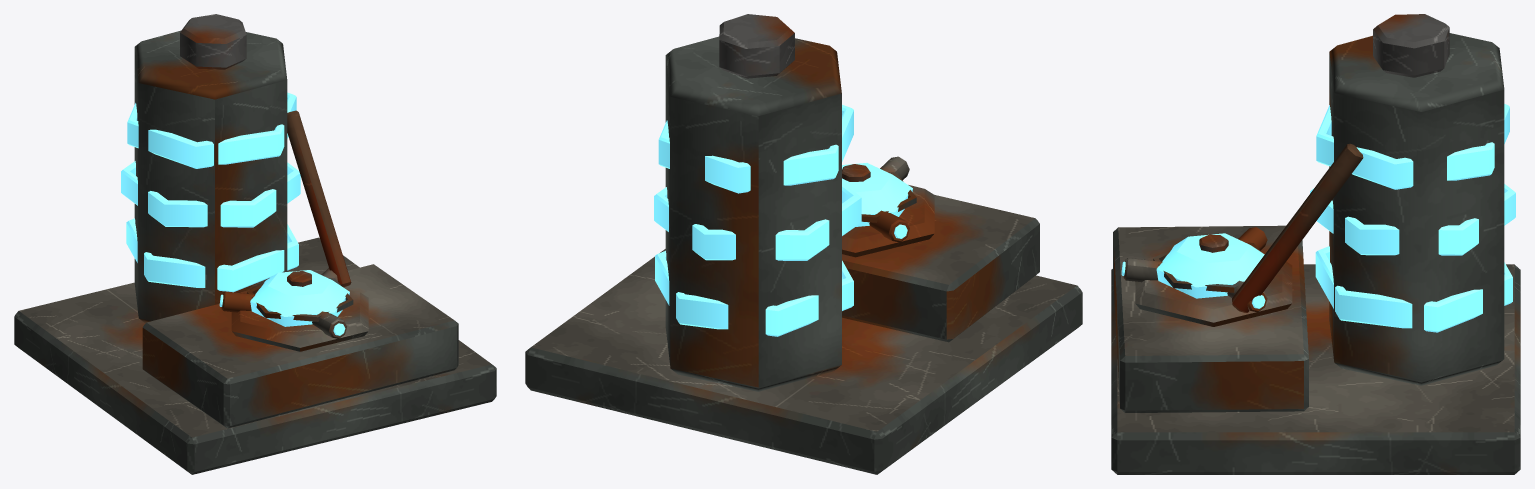
Rendered from R4X_SlowTrapDeployer_LOD1.glb.
The picture shows the model from 3 angles, left to right: view 1: azimuth 30°, elevation 25°; view 2: azimuth 150°, elevation 25°; view 3: azimuth 270°, elevation 25°; orthographic projection. The views are drawn at different scales.
Parts seen in each view (by area): view 1: R4X_SlowTrapDeployer_LOD1; view 2: R4X_SlowTrapDeployer_LOD1; view 3: R4X_SlowTrapDeployer_LOD1.
Boxes of the visible parts, left/top/right/bottom form: R4X_SlowTrapDeployer_LOD1: left=14, top=14, right=496, bottom=474; R4X_SlowTrapDeployer_LOD1: left=525, top=14, right=1082, bottom=474; R4X_SlowTrapDeployer_LOD1: left=1111, top=14, right=1520, bottom=474.
Size of the model in its own units: 0.52 by 0.51 by 0.52.
5 materials, 4 textured.
